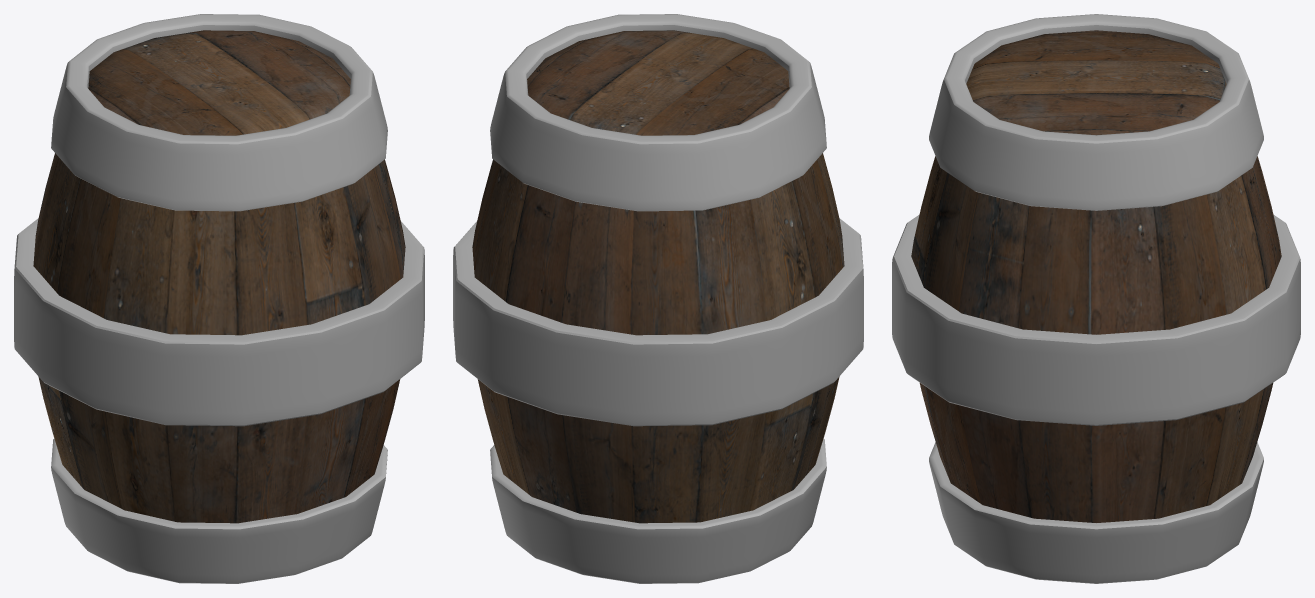
Rendered from Barril.fbx.
The picture shows the model from 3 angles, left to right: view 1: azimuth 30°, elevation 25°; view 2: azimuth 150°, elevation 25°; view 3: azimuth 270°, elevation 25°; orthographic projection.
Parts seen in each view (by area): view 1: Barril; view 2: Barril; view 3: Barril.
Part boxes in pixels (x1=…): Barril: x1=14, y1=14, x2=424, y2=583; Barril: x1=453, y1=14, x2=863, y2=583; Barril: x1=892, y1=14, x2=1300, y2=583.
Size of the model in its own units: 269 by 321 by 269.
2 materials, 1 textured.
